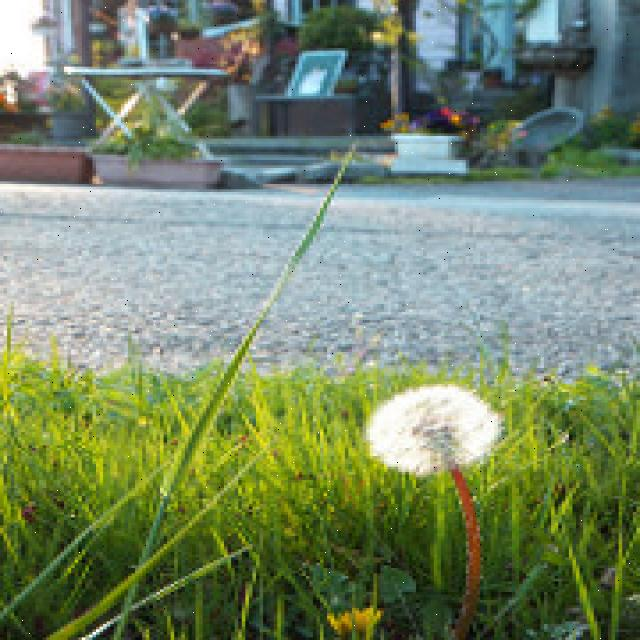Bloomed: (359, 379, 505, 477)
